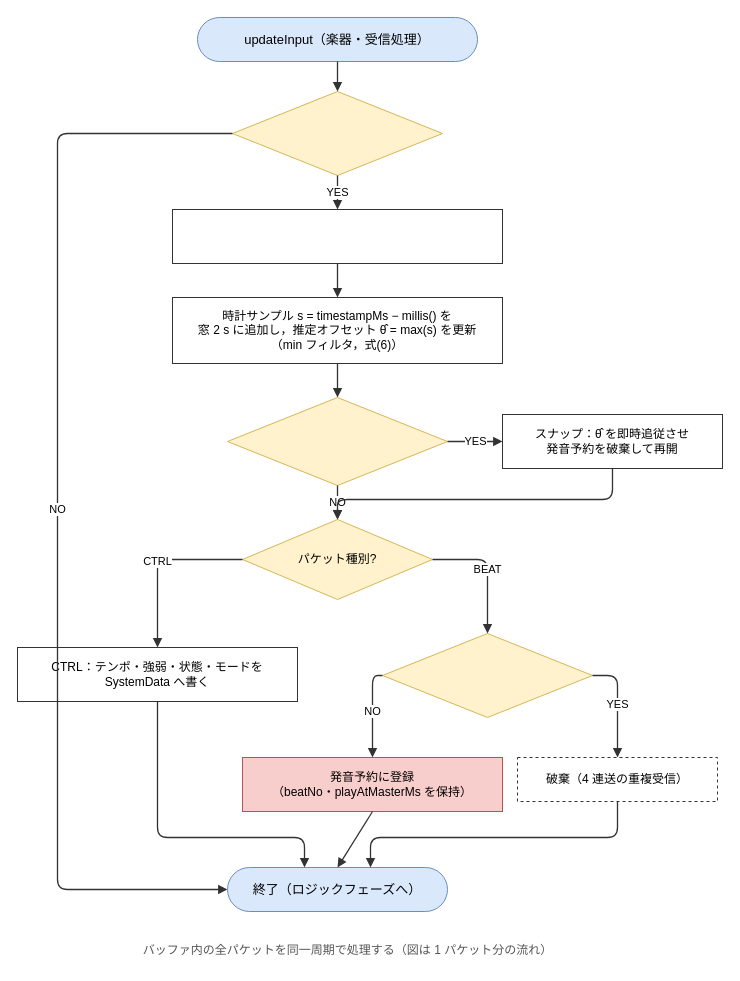
The diagram is 740 pixels wide and 981 high, and some of its shapes have lost their labels. Here are the shapes that lost their labels. From the top down, the centre of each, then its label:
At [337,133]: "受信バッファに パケットがある?".
At [337,236]: "先頭 2 バイトのマジックナンバー 0x4F52 と サイズ 20 バイトを検証（不正なら読み捨て）".
At [337,441]: "|s − θ̂| > 1000 ms? （マスタ時計の巻き戻り）".
At [487,675]: "BEAT：拍番号が 既受信と同じ?".
